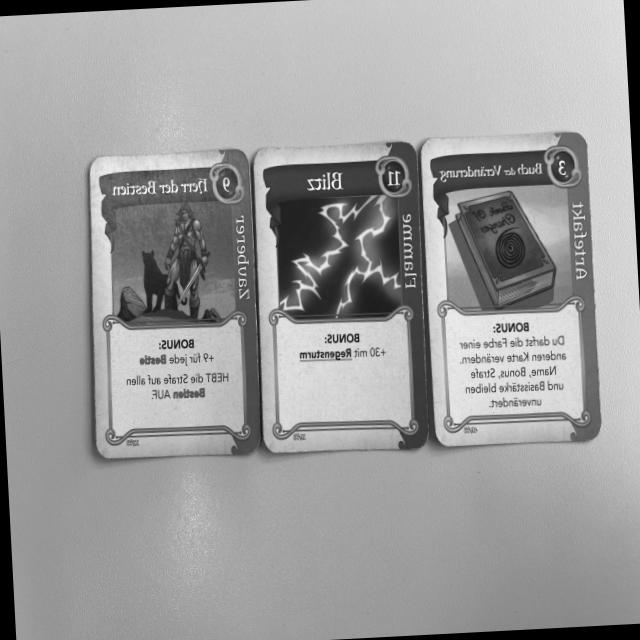Beast Master: (88, 144, 266, 463)
Book Of Changes: (419, 130, 604, 450)
Lightning: (251, 143, 430, 458)
